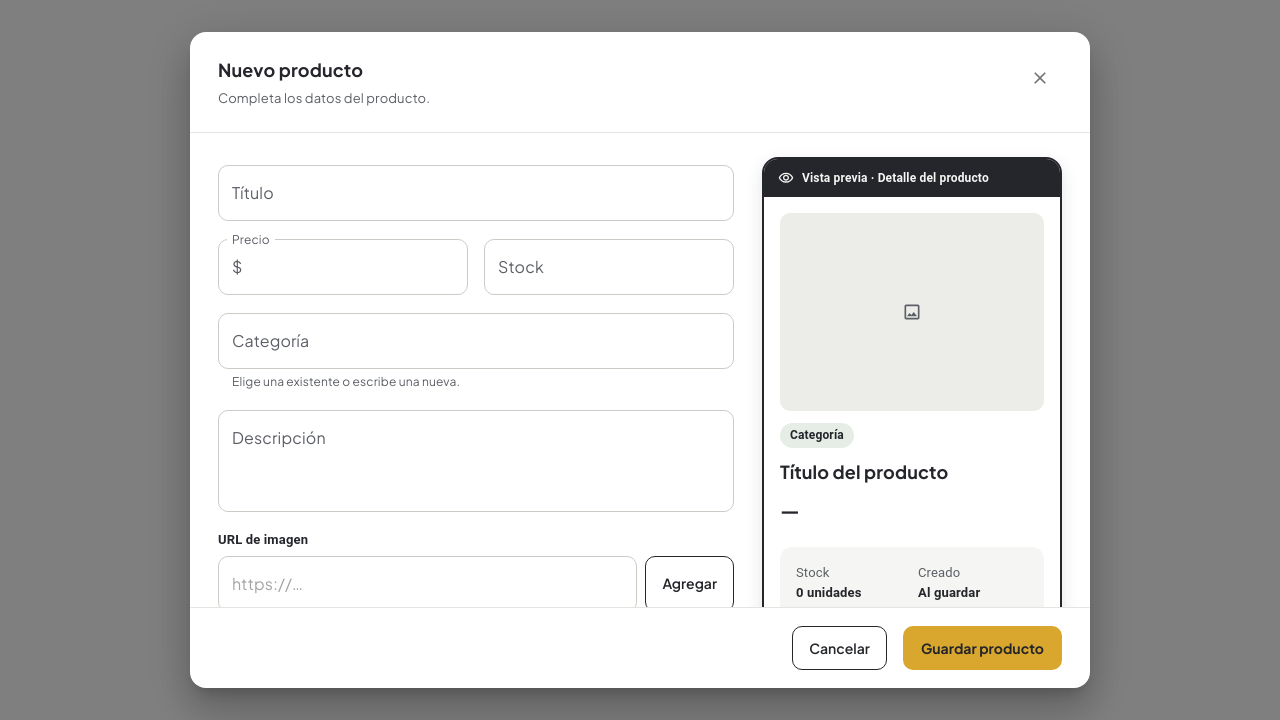
Scenario: ProductFormDialog › shows the required messages on an empty submit and sends nothing
The image size is (1280, 720).
Click the button "Guardar producto": (982, 648) left=903, top=626, right=1062, bottom=670
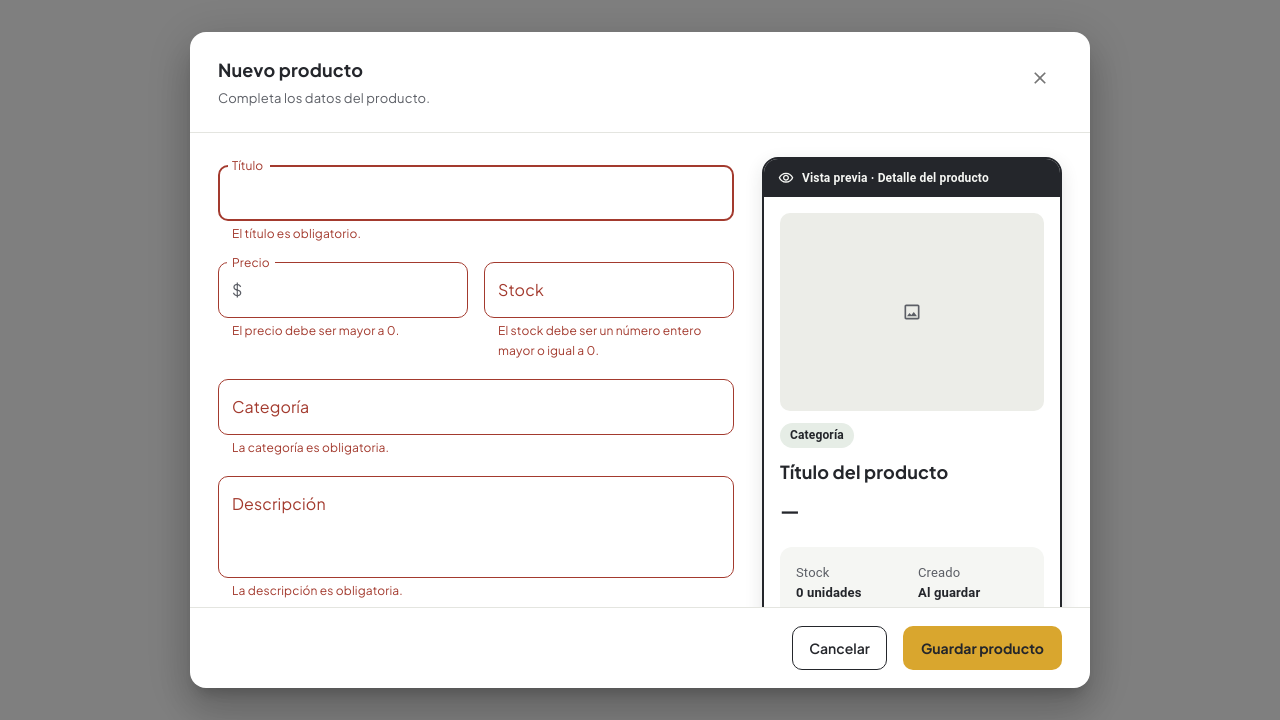
Check: the text "El título es obligatorio." is shown, box left=232, top=226, right=361, bottom=241
Check: the text "El precio debe ser mayor a 0." is shown, box left=232, top=323, right=399, bottom=338
Check: the text "El stock debe ser un número entero mayor o igual a 0." is shown, box left=498, top=321, right=720, bottom=361
